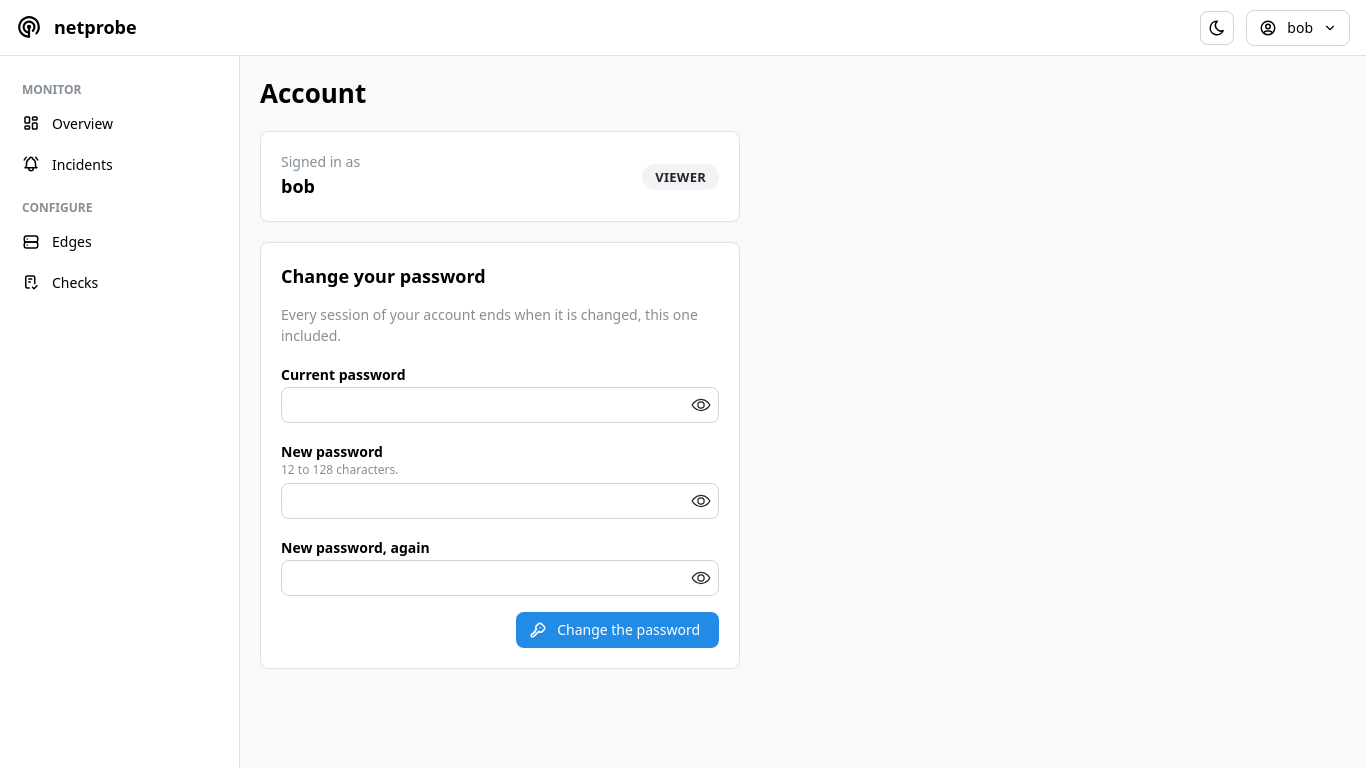
Test: the account › catches a typo in the confirmation
Type "the old password" into the password field labelled "Current password" at (500, 405), box [282,388,718,422]
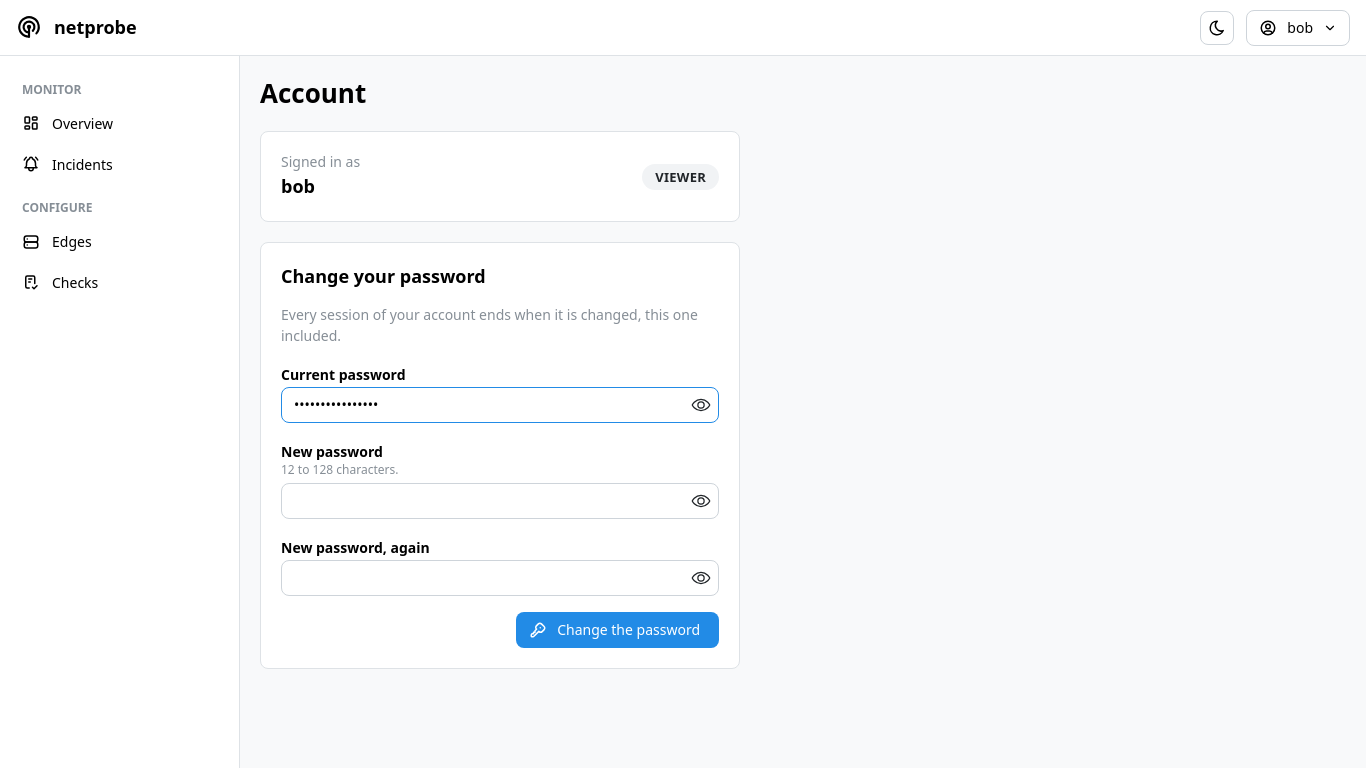
Type "a brand new password" into the password field labelled "New password" at (500, 501), box [282,484,718,518]
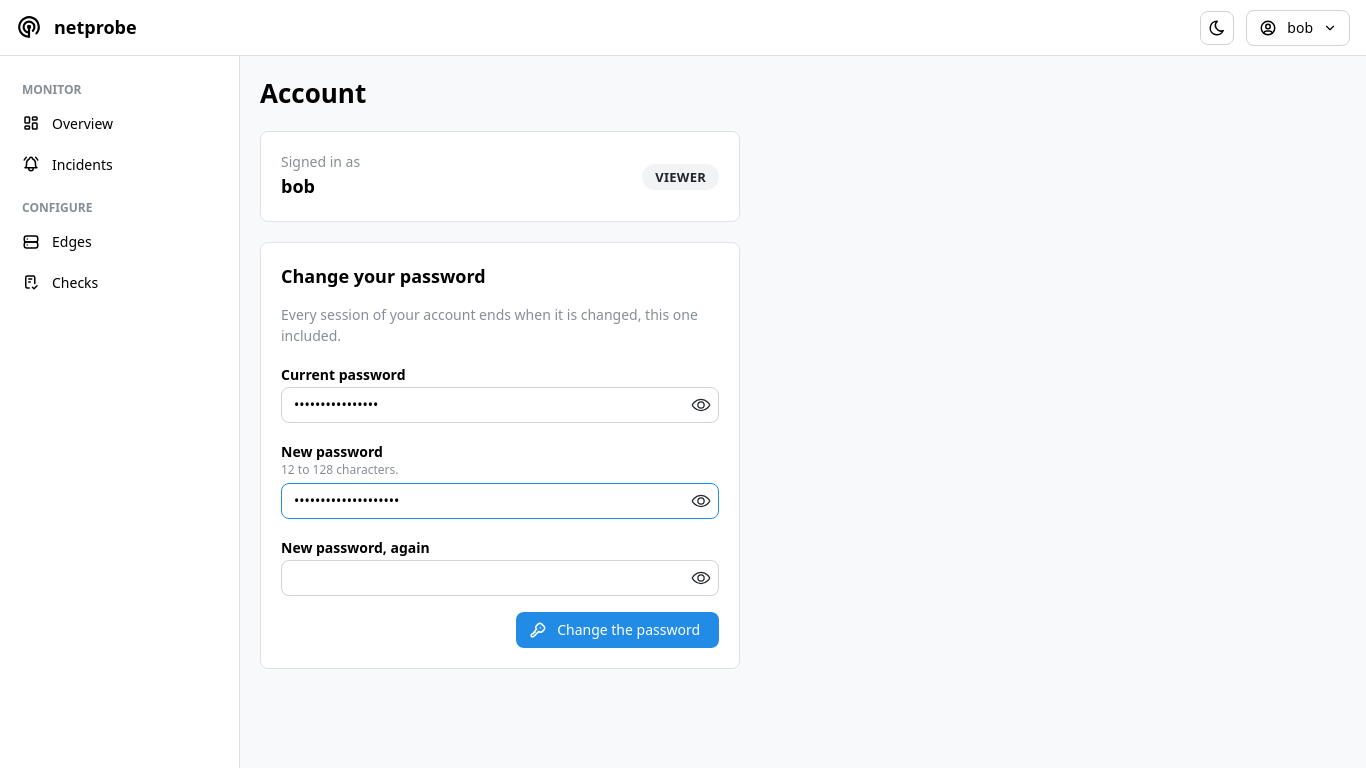
Type "a brand new passwurd" into the password field labelled "New password, again" at (500, 578), box [282,561,718,595]
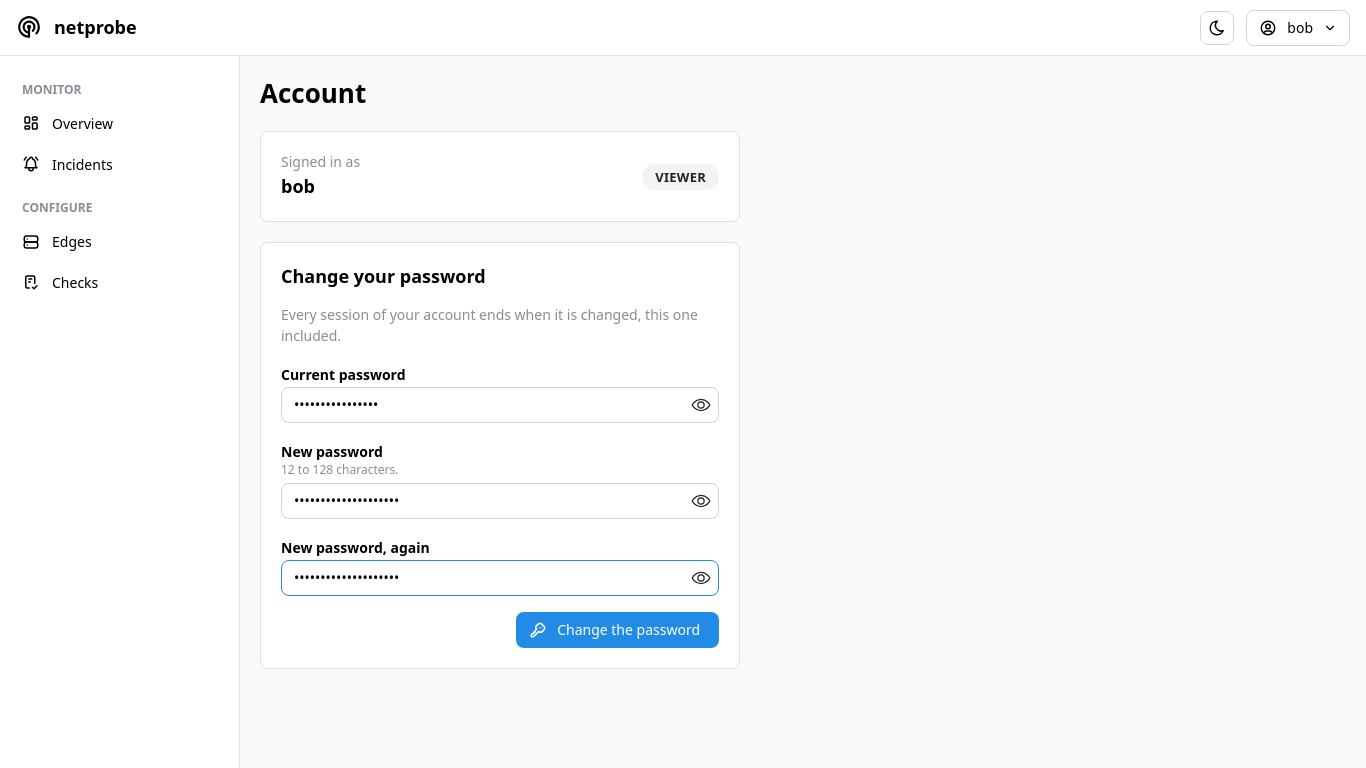
Click the button "Change the password" at (618, 630), box [516,612,719,648]
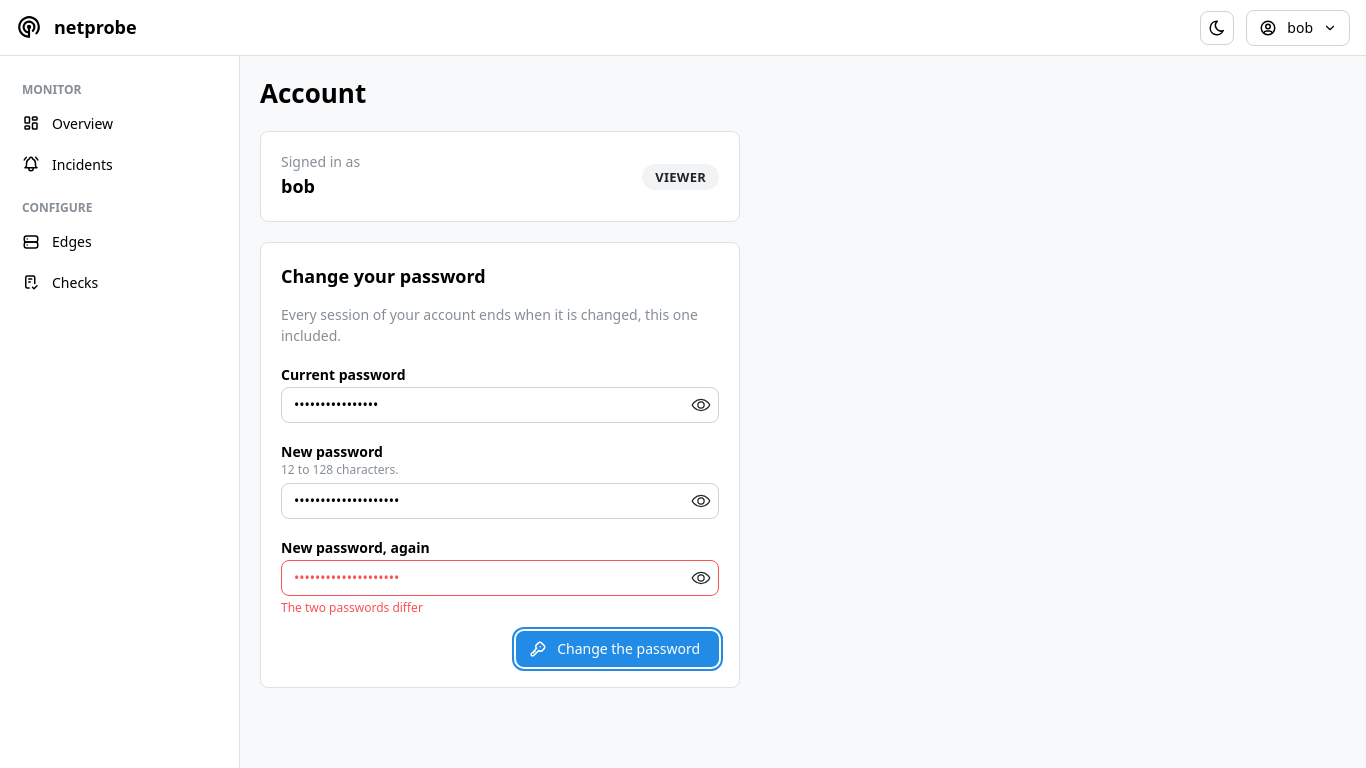
Expected: the text "The two passwords differ" is shown, [281,599,423,616]
